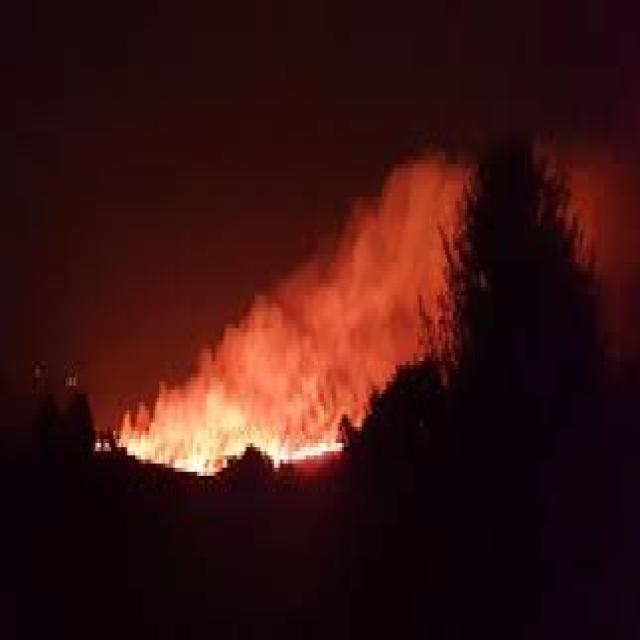Fire: (92, 386, 362, 490), (276, 435, 344, 463), (167, 455, 221, 480)
Smoke: (401, 127, 634, 383)
